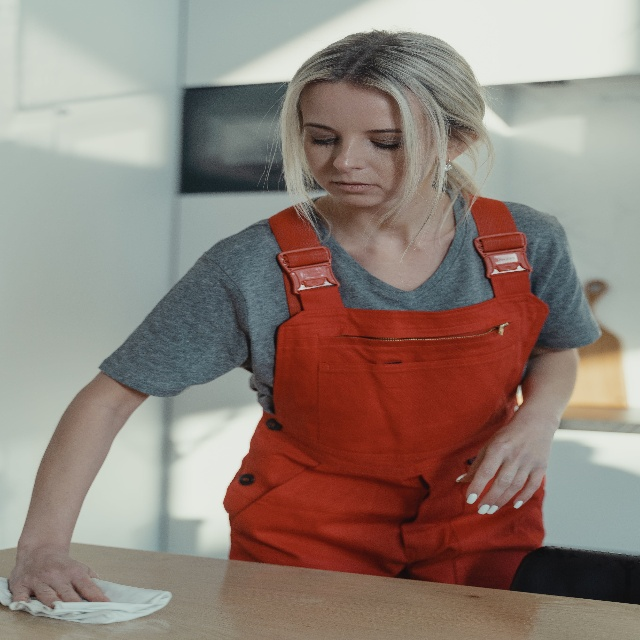Sin_guantes: (456, 410, 553, 515), (8, 546, 111, 609)
